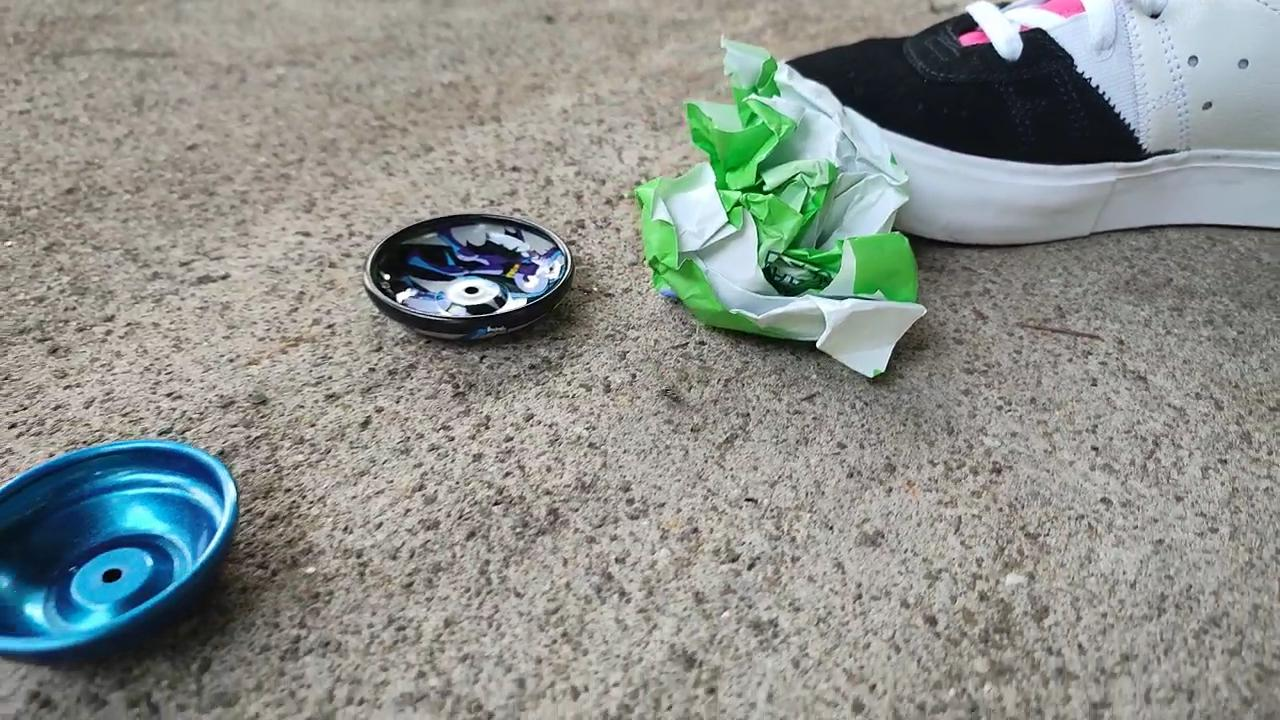Paper: (616, 14, 932, 391)
